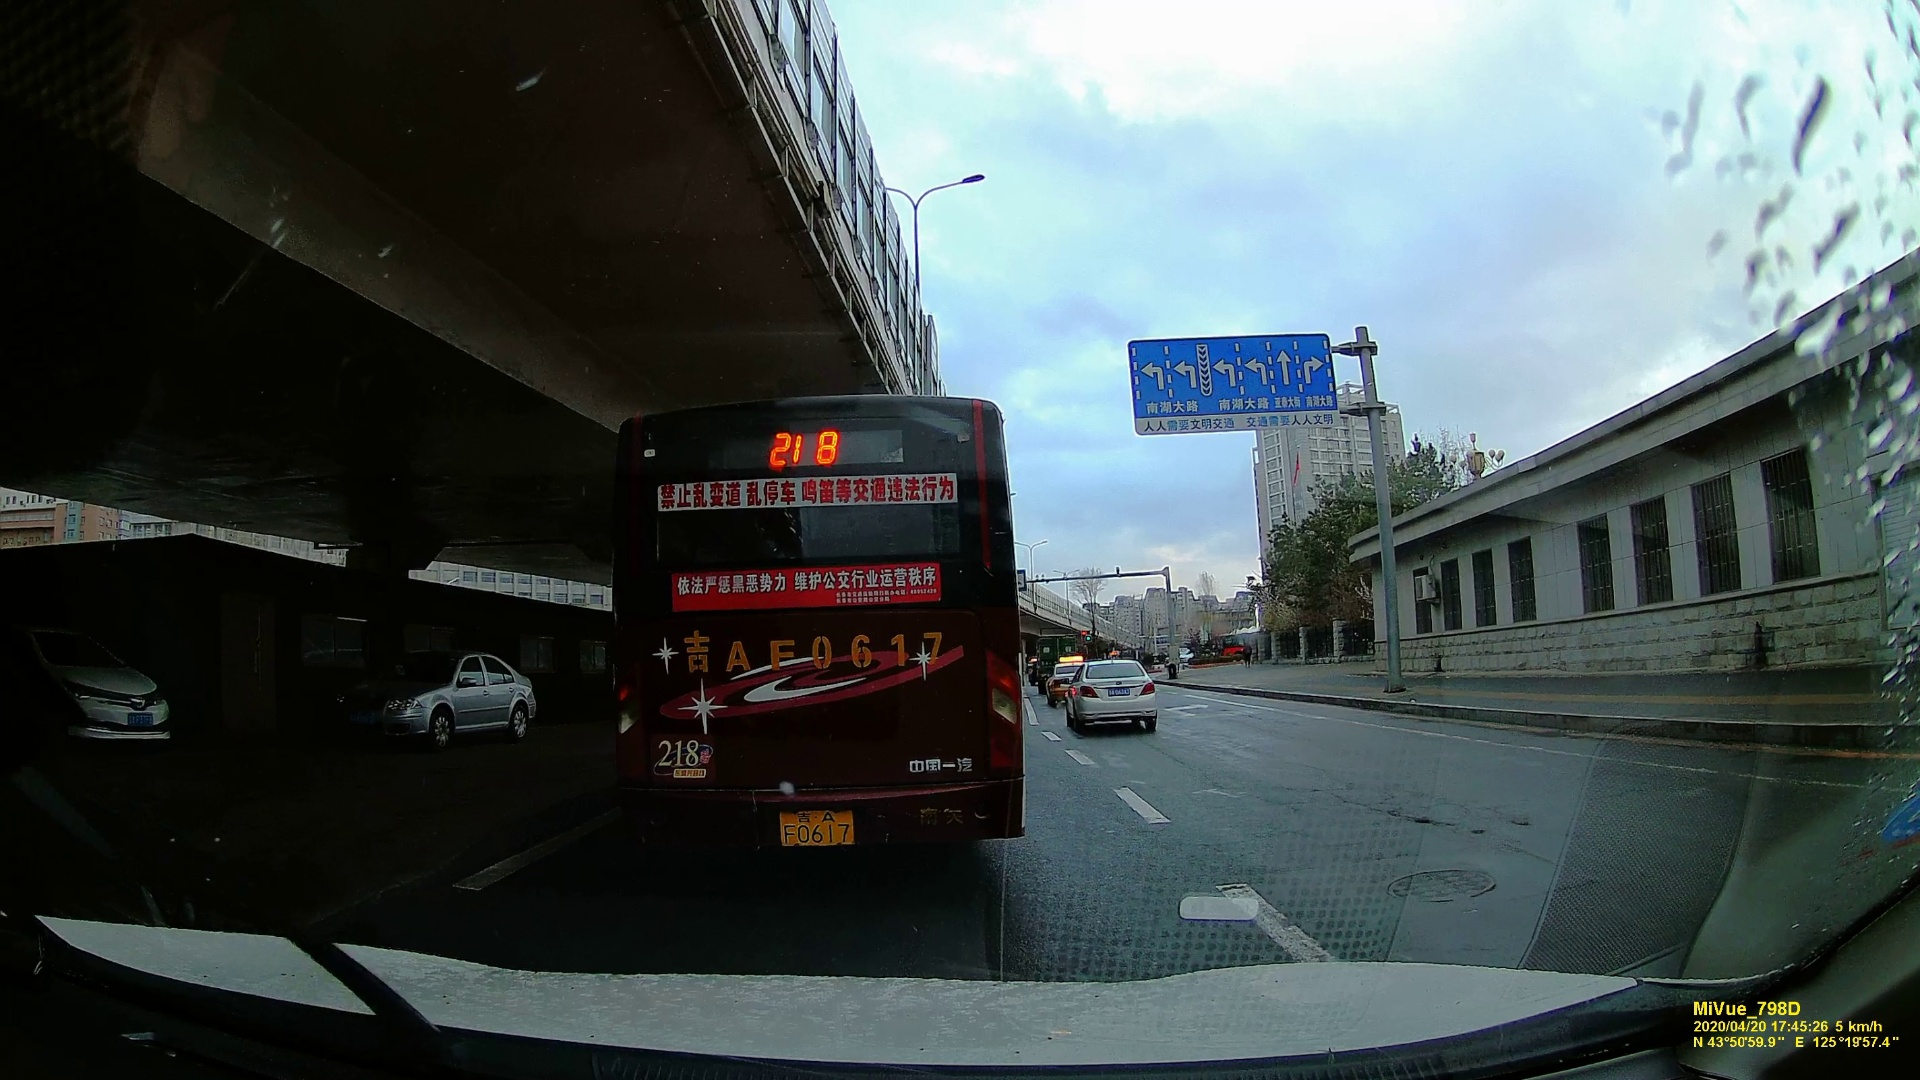bus: (606, 392, 1022, 878)
person: (1241, 641, 1253, 667)
traffic_sign: (1136, 340, 1328, 428)
vehicle: (4, 620, 168, 752), (372, 654, 538, 742), (1064, 664, 1158, 732)
